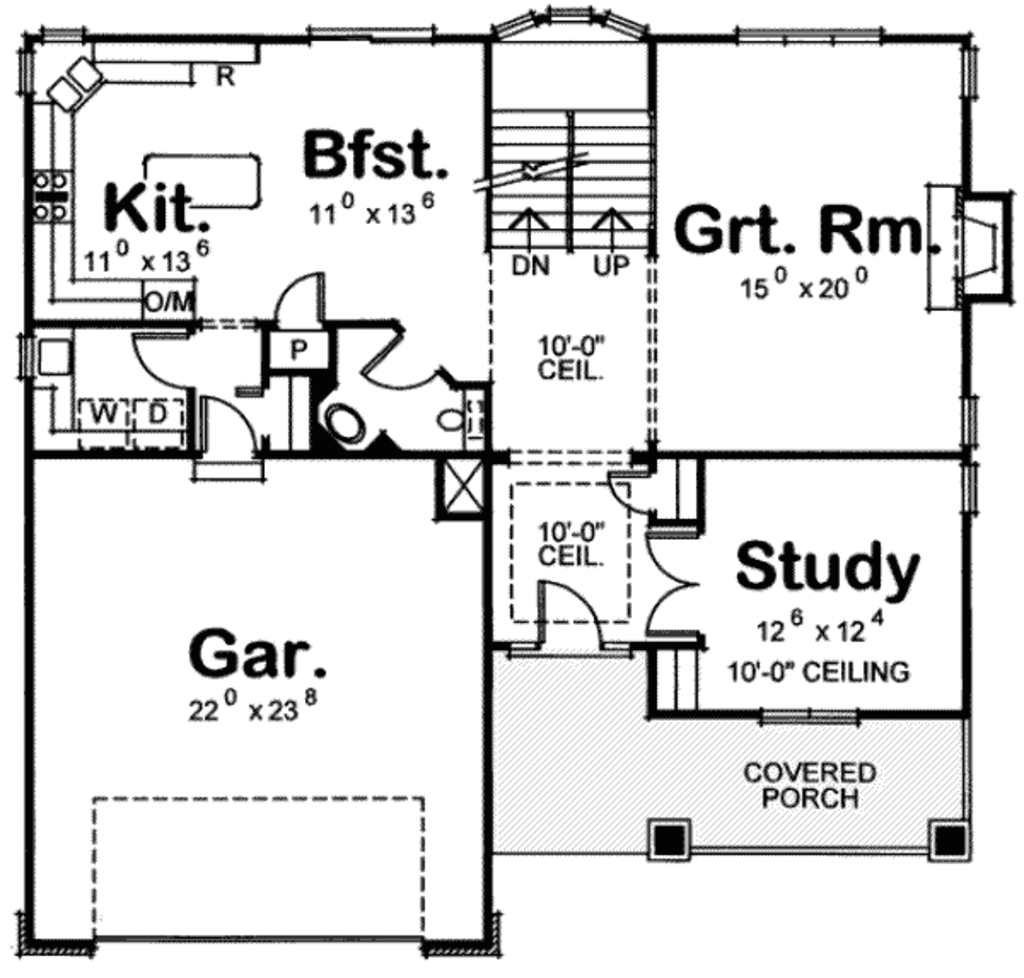door: (525, 566, 608, 651), (126, 315, 213, 395), (637, 520, 698, 634), (602, 462, 711, 525), (190, 389, 264, 480), (361, 321, 455, 390), (264, 269, 341, 327)
large_sink: (420, 400, 488, 451)
small_sink: (317, 400, 393, 460)
stairs: (491, 47, 655, 286)
twin_sink: (35, 48, 120, 122)
window: (725, 19, 890, 53), (760, 701, 867, 730), (958, 453, 984, 515), (958, 43, 981, 101), (958, 392, 978, 448)
